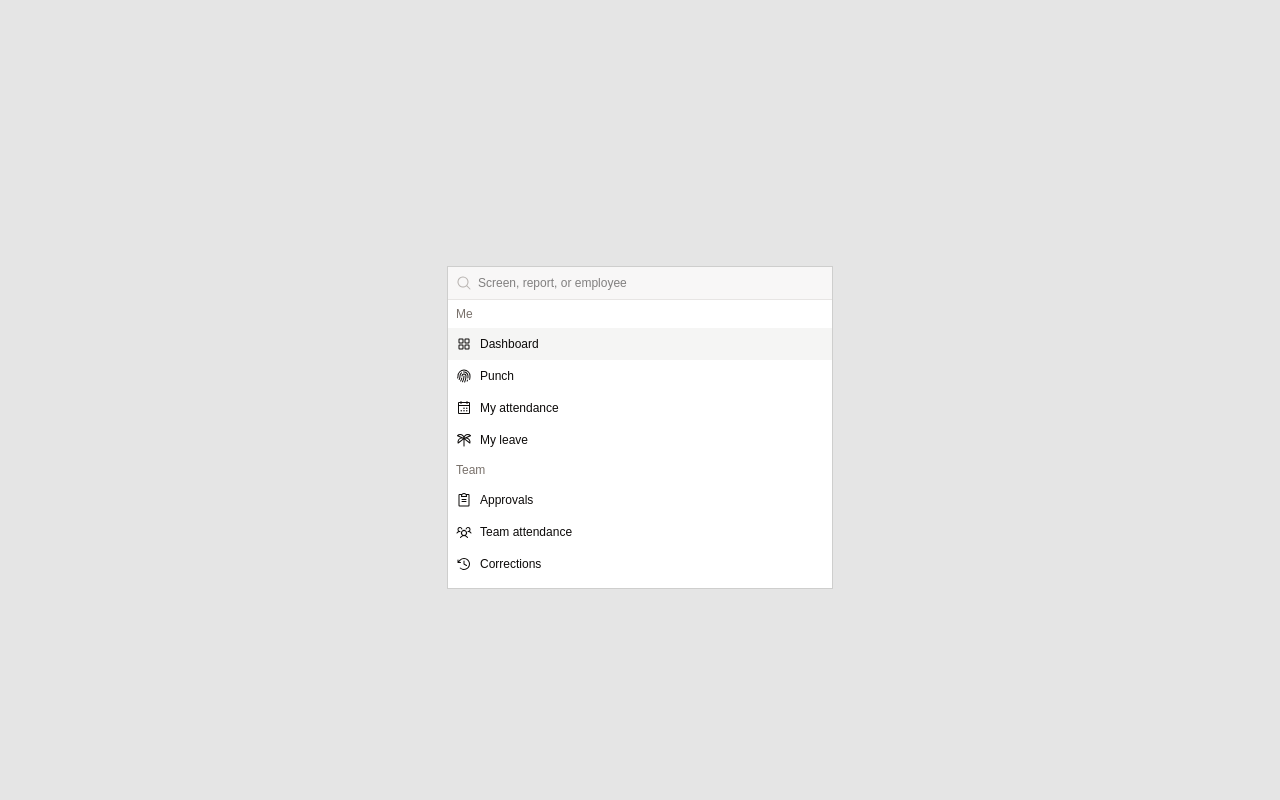
Test case: GoToPalette › forgets the query when a selection closes it, so it does not reopen on stale results
In the dropdown with placeholder "Screen, report, or employee": (652, 283) x1=472 y1=275 x2=832 y2=291, type "vy-0003"
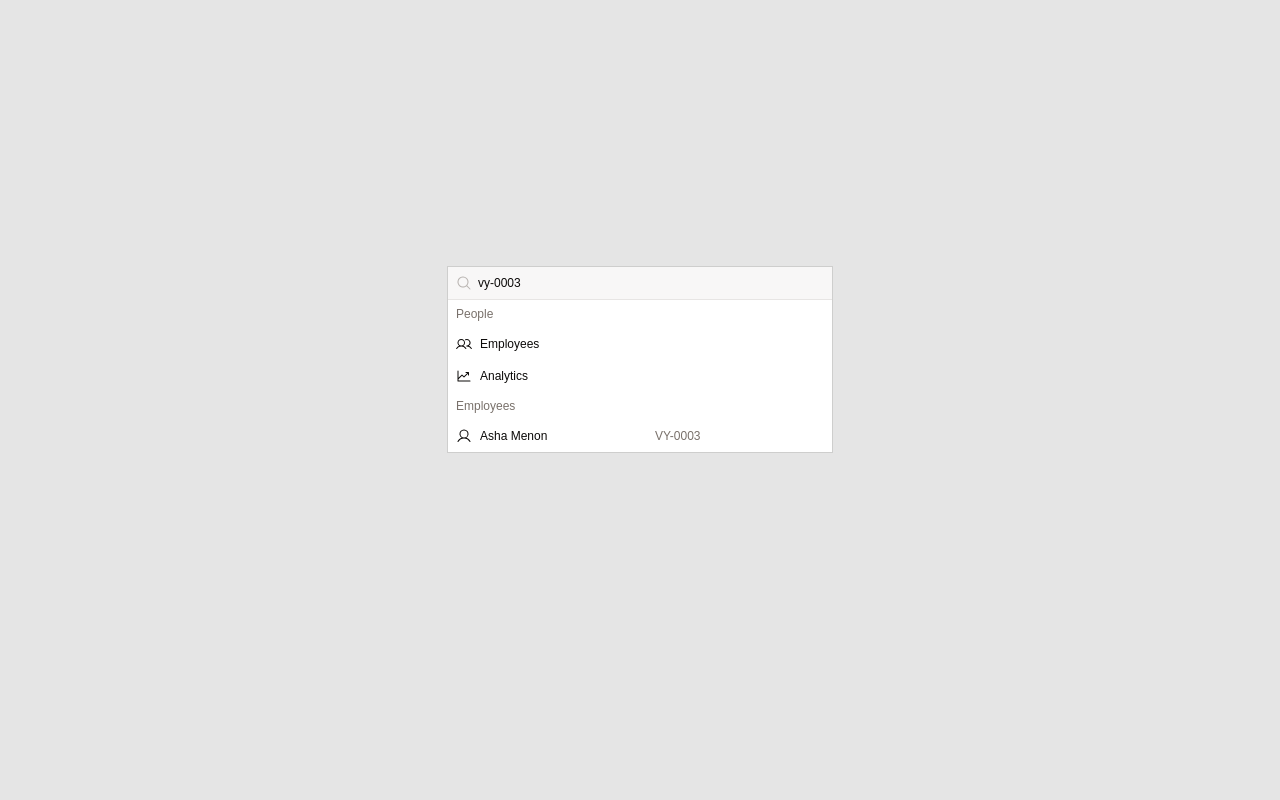
Click the text "Asha Menon": (514, 436) x1=480 y1=428 x2=547 y2=444
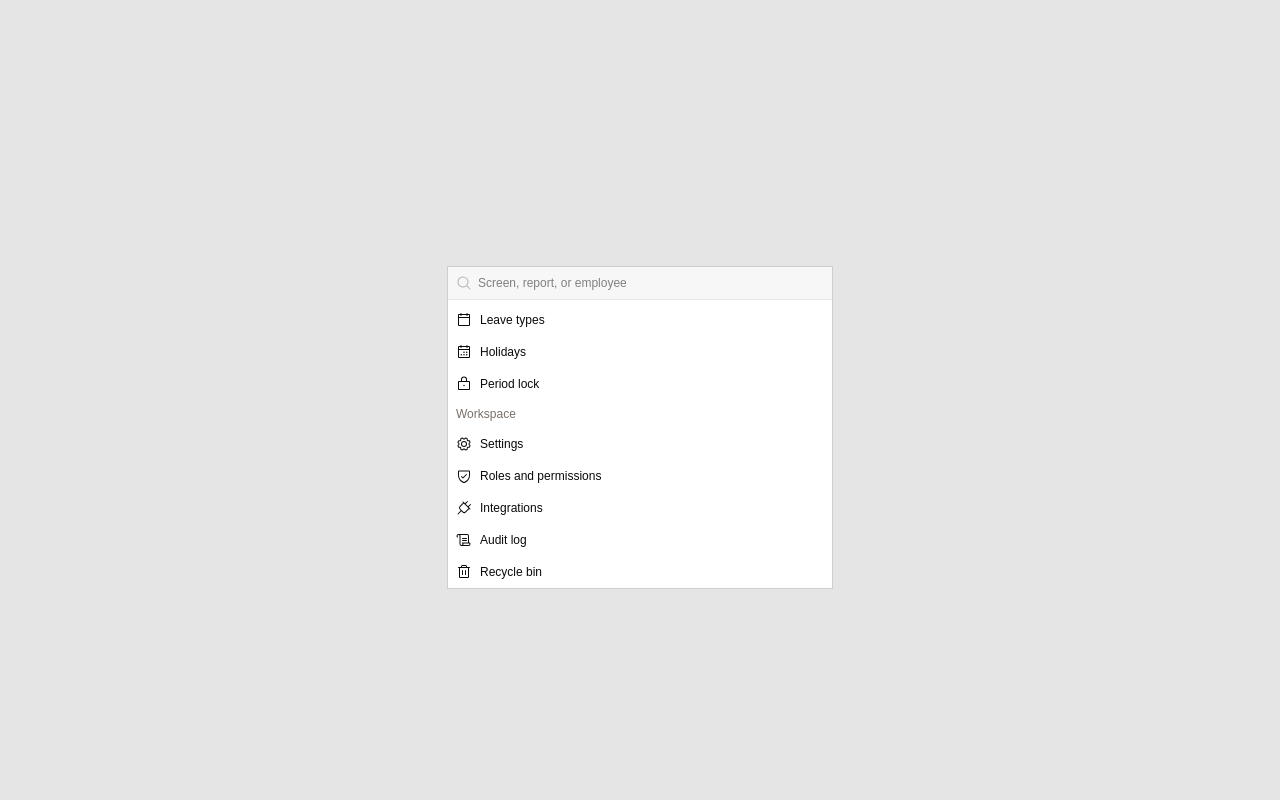
expect the dropdown with placeholder "Screen, report, or employee" is empty: met, box x1=472 y1=275 x2=832 y2=291
expect the text "Audit log" is shown: met, box x1=480 y1=532 x2=527 y2=548
